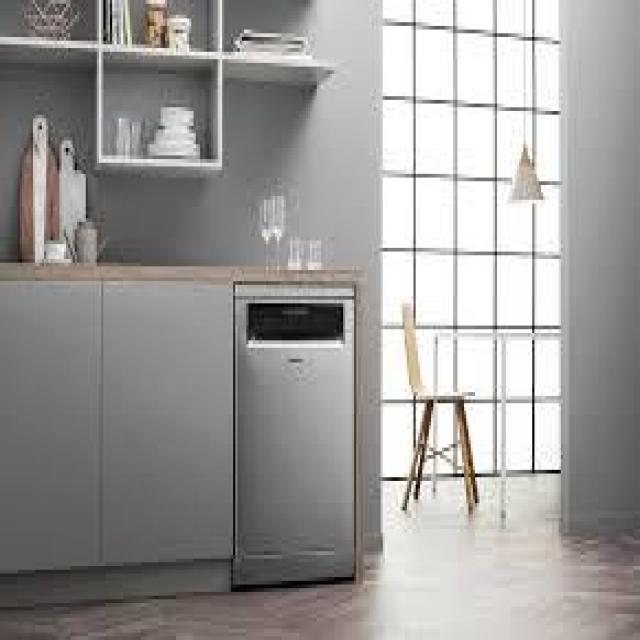dishwasher: (228, 270, 358, 596)
